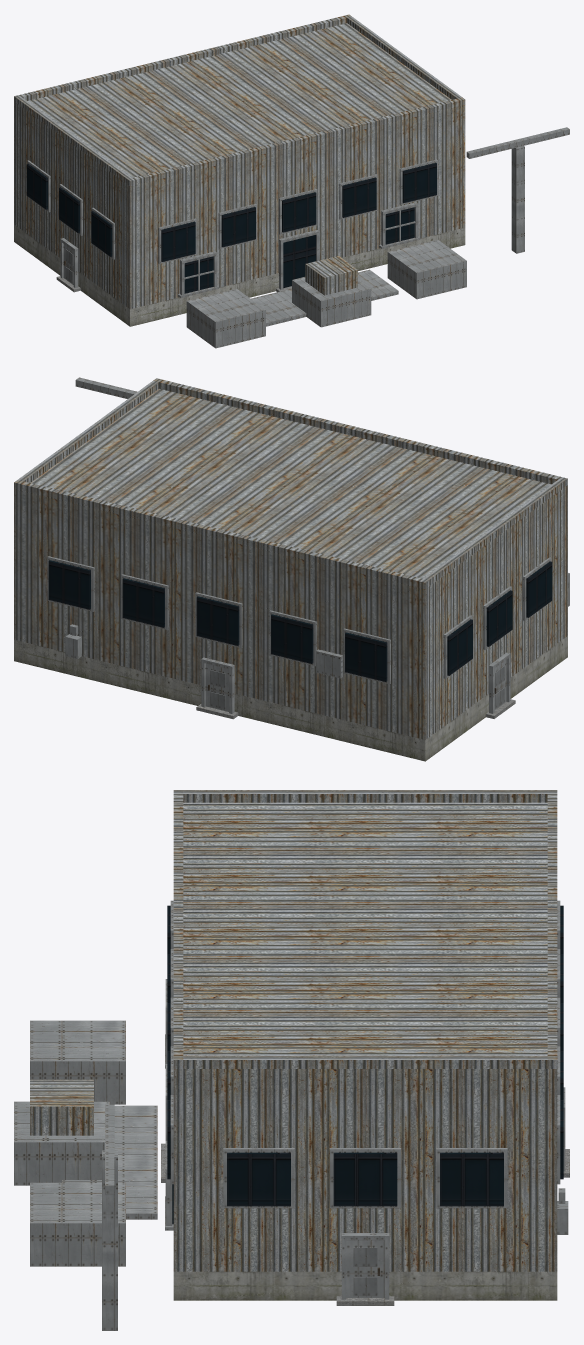
Rendered from ironworks-salvage-office_lod0.gltf.
3 renders of one model, top to bottom at view 1: azimuth 30°, elevation 25°; view 2: azimuth 150°, elevation 25°; view 3: azimuth 270°, elevation 25°, orthographic. The views are drawn at different scales.
Parts seen in each view (by area): view 1: ironworks-salvage-office_upper, ironworks-salvage-office_fen_07-glass-curtain-blue_1_t, ironworks-salvage-office_fen_14-steel-panel_0, ironworks-salvage-office_base, ironworks-salvage-office__scrap_c, ironworks-salvage-office__scrap_a, ironworks-salvage-office__parapet_front, ironworks-salvage-office__parapet_back, ironworks-salvage-office__scrap_b, ironworks-salvage-office__weighbridge, ironworks-salvage-office__scrap_top, ironworks-salvage-office__crane_post (+3 smaller); view 2: ironworks-salvage-office_upper, ironworks-salvage-office_fen_07-glass-curtain-blue_1_t, ironworks-salvage-office_base, ironworks-salvage-office_fen_14-steel-panel_0, ironworks-salvage-office__parapet_back, ironworks-salvage-office__parapet_front, ironworks-salvage-office__parapet_left, ironworks-salvage-office__parapet_right, ironworks-salvage-office_fen_14-steel-panel_4_t, ironworks-salvage-office__crane_jib, ironworks-salvage-office_fen_06-granite_3; view 3: ironworks-salvage-office_upper, ironworks-salvage-office_fen_07-glass-curtain-blue_1_t, ironworks-salvage-office_base, ironworks-salvage-office_fen_14-steel-panel_0, ironworks-salvage-office__scrap_c, ironworks-salvage-office__scrap_a, ironworks-salvage-office__scrap_b, ironworks-salvage-office__parapet_left, ironworks-salvage-office__parapet_right, ironworks-salvage-office__weighbridge, ironworks-salvage-office__scrap_top, ironworks-salvage-office__parapet_front (+5 smaller).
Boxes of the visible parts, x1,y1,x2,y2 form: ironworks-salvage-office_upper: (14,23,465,309); ironworks-salvage-office_fen_07-glass-curtain-blue_1_t: (26,163,436,293); ironworks-salvage-office_fen_14-steel-panel_0: (27,159,437,297); ironworks-salvage-office_base: (14,224,465,326); ironworks-salvage-office__scrap_c: (387,239,466,299); ironworks-salvage-office__scrap_a: (186,288,265,348); ironworks-salvage-office__parapet_front: (127,97,465,186); ironworks-salvage-office__parapet_back: (14,14,351,103); ironworks-salvage-office__scrap_b: (292,277,371,327); ironworks-salvage-office__weighbridge: (251,269,398,326); ironworks-salvage-office__scrap_top: (305,255,357,295); ironworks-salvage-office__crane_post: (511,146,524,253); ironworks-salvage-office_upper: (14,388,567,739); ironworks-salvage-office_fen_07-glass-curtain-blue_1_t: (48,560,552,681); ironworks-salvage-office_base: (14,636,567,761); ironworks-salvage-office_fen_14-steel-panel_0: (47,556,551,713); ironworks-salvage-office__parapet_back: (14,480,428,589); ironworks-salvage-office__parapet_front: (153,378,567,487); ironworks-salvage-office__parapet_left: (423,479,564,586); ironworks-salvage-office__parapet_right: (18,381,158,482); ironworks-salvage-office_fen_14-steel-panel_4_t: (210,666,504,709); ironworks-salvage-office__crane_jib: (75,377,137,398); ironworks-salvage-office_fen_06-granite_3: (196,699,515,719); ironworks-salvage-office_upper: (173,802,557,1271); ironworks-salvage-office_fen_07-glass-curtain-blue_1_t: (167,905,563,1224); ironworks-salvage-office_base: (173,1271,557,1300); ironworks-salvage-office_fen_14-steel-panel_0: (165,900,568,1299); ironworks-salvage-office__scrap_c: (30,1182,125,1266); ironworks-salvage-office__scrap_a: (30,1020,125,1104); ironworks-salvage-office__scrap_b: (14,1101,109,1185); ironworks-salvage-office__parapet_left: (183,790,547,802); ironworks-salvage-office__parapet_right: (183,1056,547,1068); ironworks-salvage-office__weighbridge: (62,1105,157,1219); ironworks-salvage-office__scrap_top: (30,1079,93,1135); ironworks-salvage-office__parapet_front: (173,790,183,1068).
Bounding box in the file's own units: 25.4 × 8.3 × 17.4.
